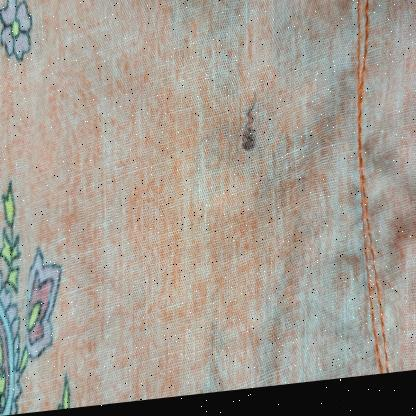spot: (238, 105, 258, 162)
